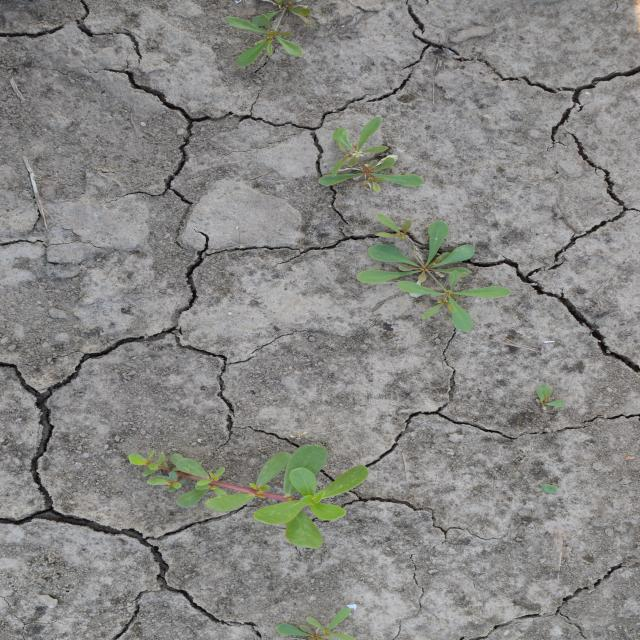Carpetweed: (353, 211, 514, 334), (316, 115, 427, 194), (219, 0, 321, 72), (269, 604, 363, 639)
Purslane: (124, 442, 372, 550)
